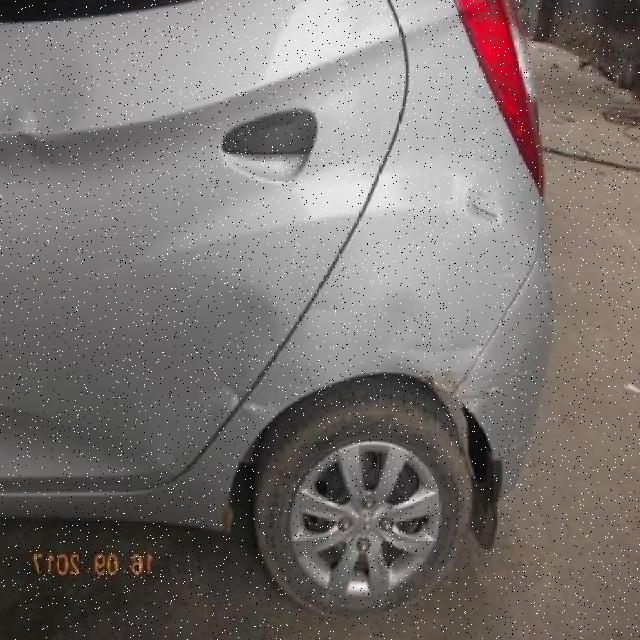damage: (367, 286, 533, 402), (2, 96, 62, 180), (213, 367, 272, 420), (468, 180, 503, 224)
